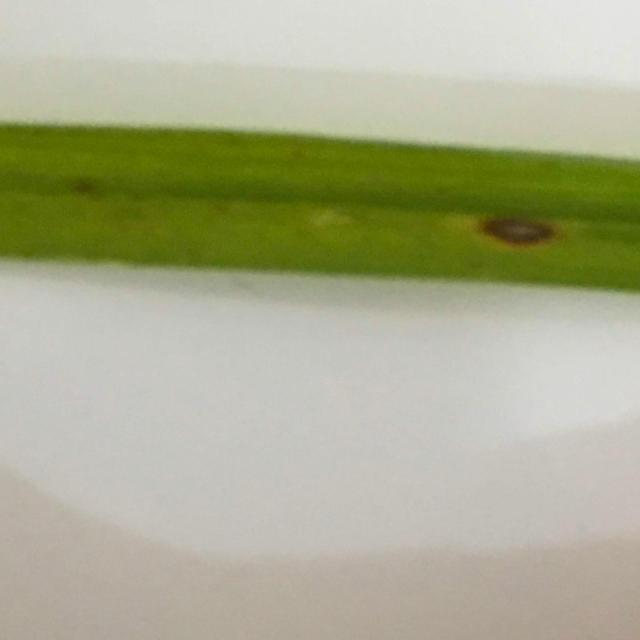Leaf blast: (0, 88, 640, 354)
